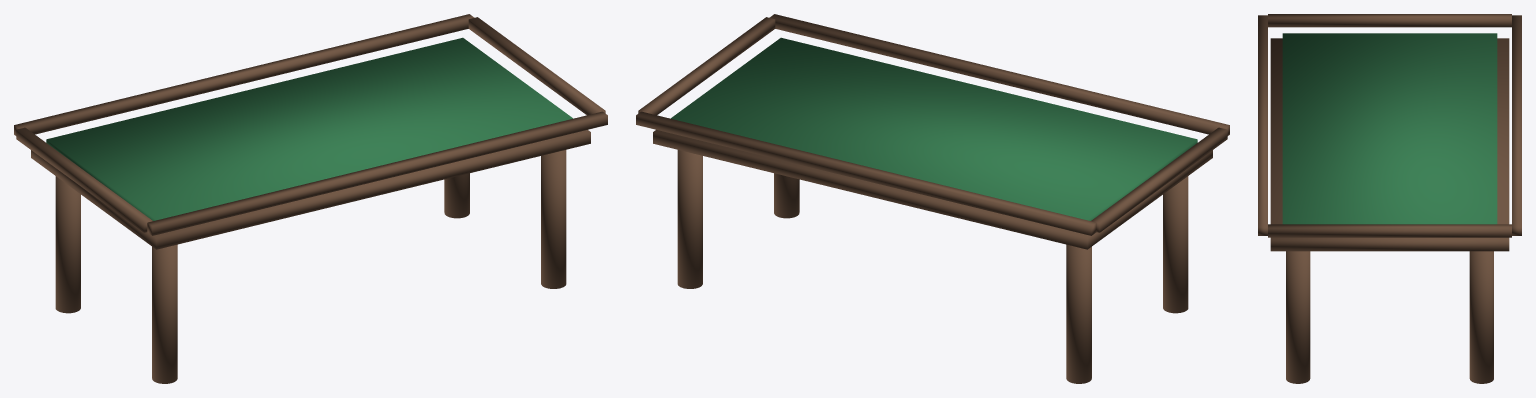
Rendered from BlackjackTable.fbx.
3 views of the same model, side by side, from view 1: azimuth 30°, elevation 25°; view 2: azimuth 150°, elevation 25°; view 3: azimuth 270°, elevation 25° (orthographic). The views are drawn at different scales.
Parts seen in each view (by area): view 1: BlackjackTable_Low; view 2: BlackjackTable_Low; view 3: BlackjackTable_Low.
Part boxes in pixels (x1,y1,x2,y2): BlackjackTable_Low: (14,14,607,383); BlackjackTable_Low: (636,14,1229,383); BlackjackTable_Low: (1258,14,1521,383).
Bounding box in the file's own units: 229 × 83.25 × 119.
